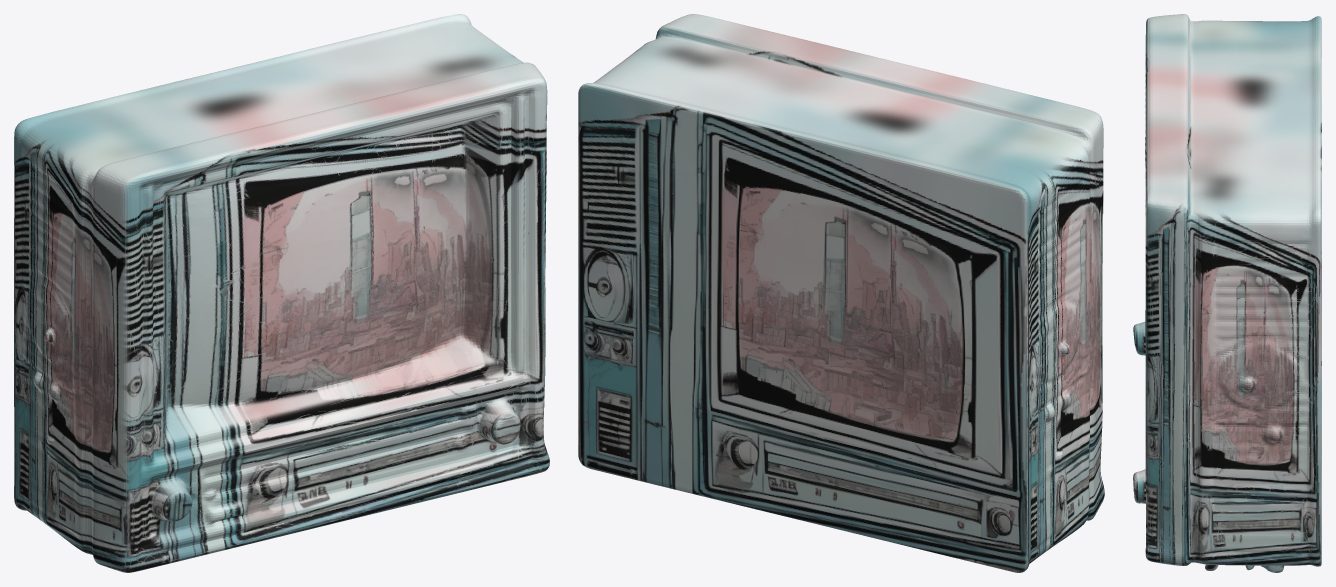
The model's file is kit_network_camera.glb.
The picture shows the model from 3 angles, left to right: view 1: azimuth 30°, elevation 25°; view 2: azimuth 150°, elevation 25°; view 3: azimuth 270°, elevation 25°; orthographic projection. The views are drawn at different scales.
Visible parts, largest first — view 1: kit_network_camera; view 2: kit_network_camera; view 3: kit_network_camera.
Boxes of the visible parts, left/top/right/bottom form: kit_network_camera: left=14, top=14, right=549, bottom=572; kit_network_camera: left=578, top=14, right=1104, bottom=572; kit_network_camera: left=1133, top=14, right=1321, bottom=572.
Bounding box in the file's own units: 3.55 × 3 × 1.36.
1 material, 1 textured.
